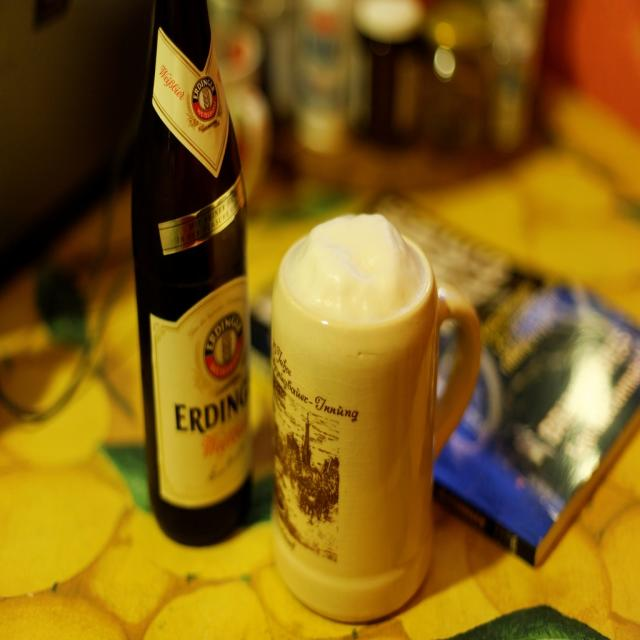erdinger: (172, 298, 252, 439), (187, 73, 225, 137)
